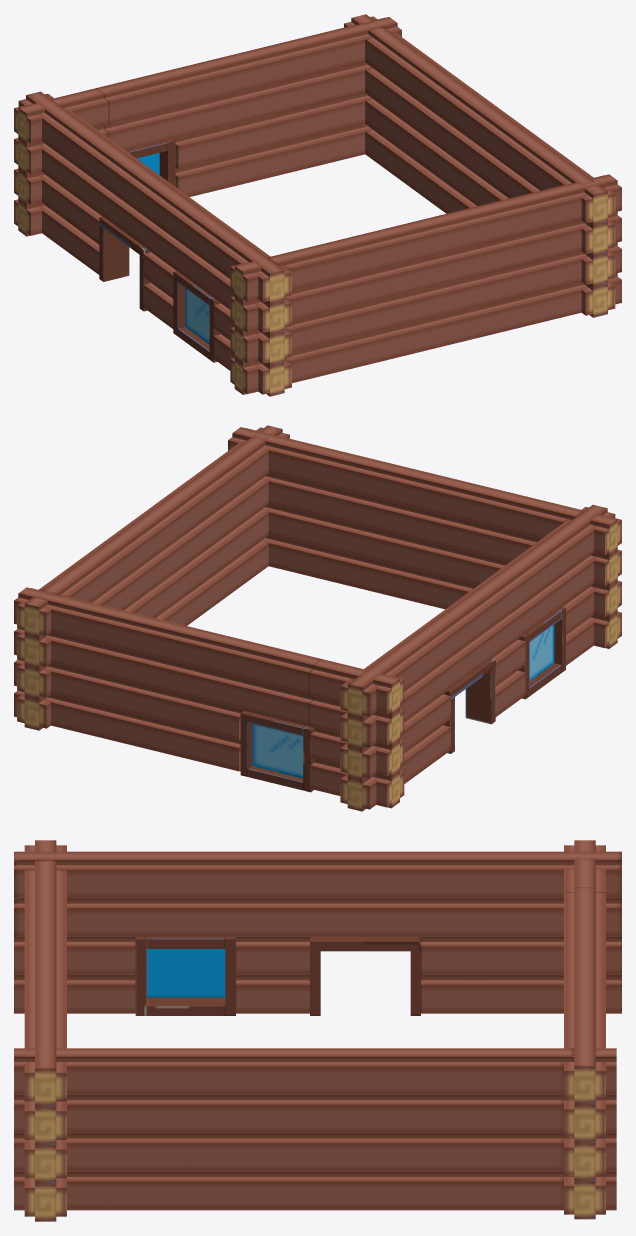
File: Home 1.fbx
3 views of the same model, one above another, from view 1: azimuth 30°, elevation 25°; view 2: azimuth 150°, elevation 25°; view 3: azimuth 270°, elevation 25° (orthographic). The views are drawn at different scales.
Visible parts, largest first — view 1: cube_25, cube_52, cube_79, cube_118, cube_19, cube_46, cube_1, cube_28, cube_10, cube_73, cube_112, cube (+31 smaller); view 2: cube_26, cube_20, cube_47, cube_53, cube_1, cube_28, cube_80, cube_10, cube_113, cube_74, cube_119, cube (+43 smaller); view 3: cube_2, cube_29, cube_65, cube_38, cube_11, cube_104, cube, cube_9, cube_24, cube_56, cube_83, cube_18 (+30 smaller).
Part boxes in pixels (x1,y1,x2,y2): cube_25: (284,184,621,290); cube_52: (284,215,621,321); cube_79: (285,246,621,352); cube_118: (284,276,621,383); cube_19: (104,27,401,124); cube_46: (104,65,371,150); cube_1: (18,99,269,302); cube_28: (38,144,269,332); cube_10: (365,37,571,190); cube_73: (175,95,372,168); cube_112: (175,126,372,196); cube: (26,91,284,304); cube_26: (228,437,568,539); cube_20: (14,597,313,695); cube_47: (14,629,313,726); cube_53: (262,476,536,562); cube_1: (362,512,615,716); cube_28: (362,555,597,747); cube_80: (263,507,504,585); cube_10: (61,447,270,602); cube_113: (14,690,240,771); cube_74: (14,660,240,740); cube_119: (262,538,472,609); cube: (347,504,607,718); cube_2: (14,865,621,898); cube_29: (14,903,621,936); cube_65: (61,1138,563,1171); cube_38: (62,1100,563,1133); cube_11: (62,1062,563,1094); cube_104: (66,1177,563,1209); cube: (14,851,621,865); cube_9: (47,1048,574,1095); cube_24: (35,860,56,1106); cube_56: (421,942,621,975); cube_83: (421,980,621,1013); cube_18: (574,887,595,1104).
Bounding box in the file's own units: 638 × 200 × 719.
